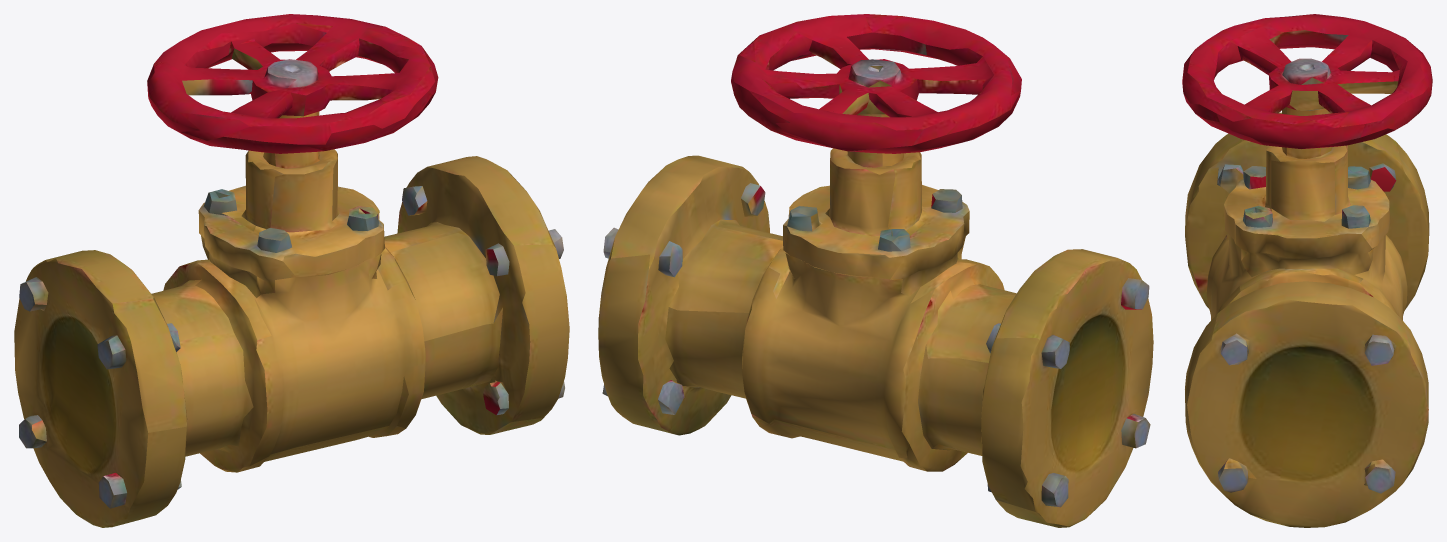
File: pump_part.glb
3 views of the same model, side by side, from view 1: azimuth 30°, elevation 25°; view 2: azimuth 150°, elevation 25°; view 3: azimuth 270°, elevation 25° (orthographic). The views are drawn at different scales.
Parts seen in each view (by area): view 1: pump_part; view 2: pump_part; view 3: pump_part.
Boxes of the visible parts, x1,y1,x2,y2 form: pump_part: (14,14,569,527); pump_part: (598,14,1153,527); pump_part: (1182,14,1432,527).
Bounding box in the file's own units: 1 × 0.8455 × 0.5219.
1 material, 1 textured.
